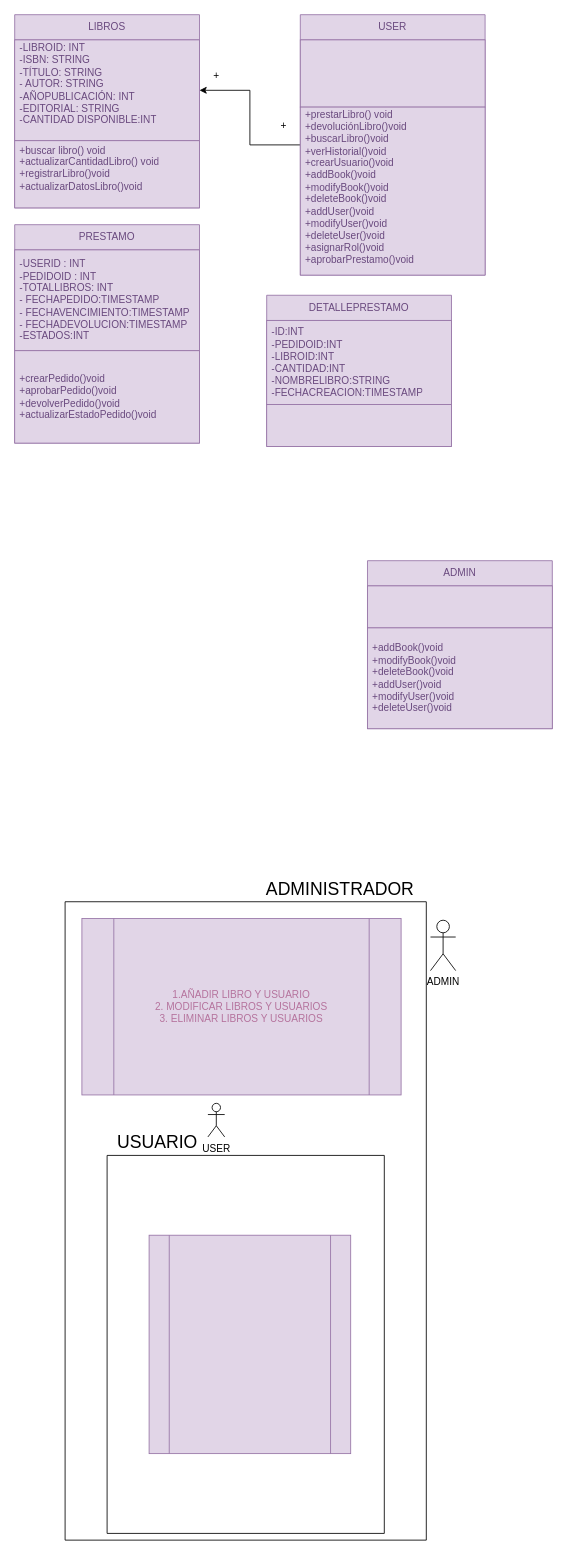
The diagram is 567 pixels wide and 1555 high, and some of its shapes have lost their labels. The shapes that lost their labels are listed below. From the top down, each one's centre as x and y in pixels, then its label:
At (392,73): "-USERID : INT -NOMBRE: STRING - DIRECCIÓN: STRING -TELEFONO: INT".
At (249,1344): "1. BUSCAR LIBRO 2. PRESTAR LIBRO 3. DEVOLVER LIBRO 4. REGISTRAR HISTORIAL".
